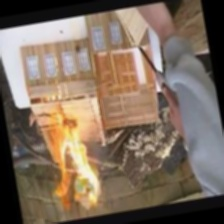fire: (39, 121, 112, 221)
